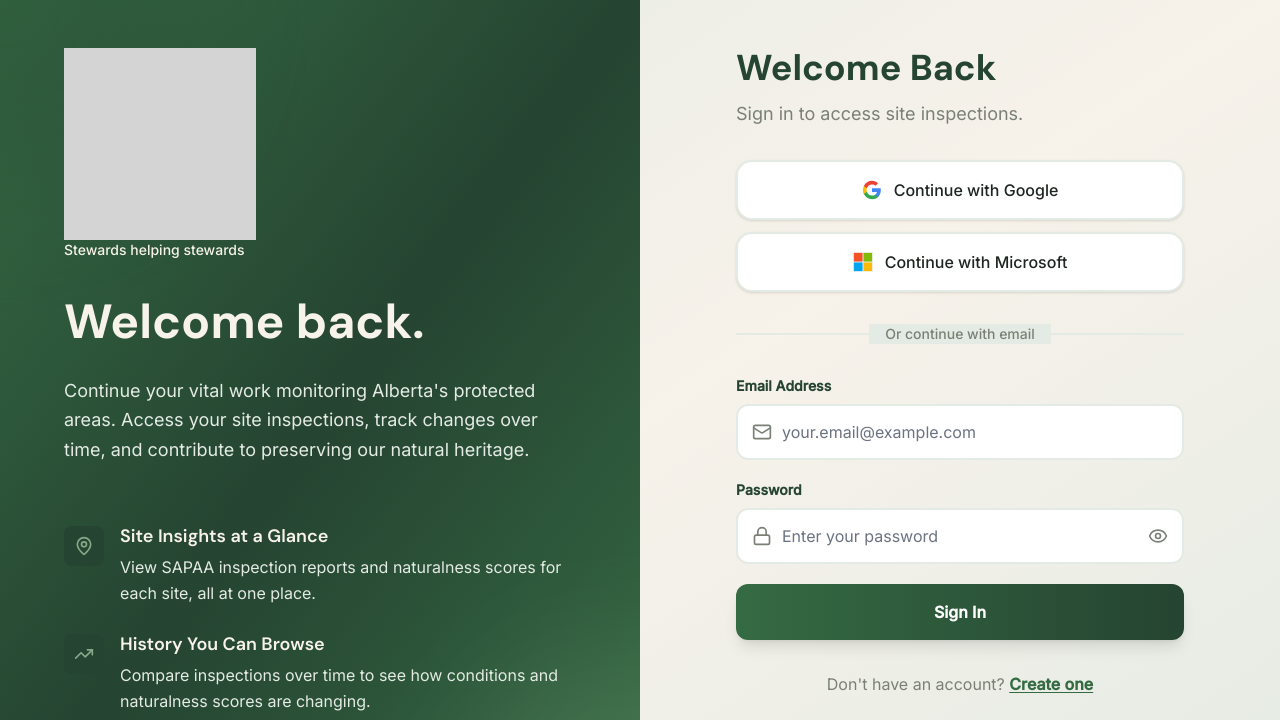
Scenario: LoginPage › shows error on failed login
Type "test@example.com" into the field labelled "Email Address" at [960, 432], box [736,404,1184,460]
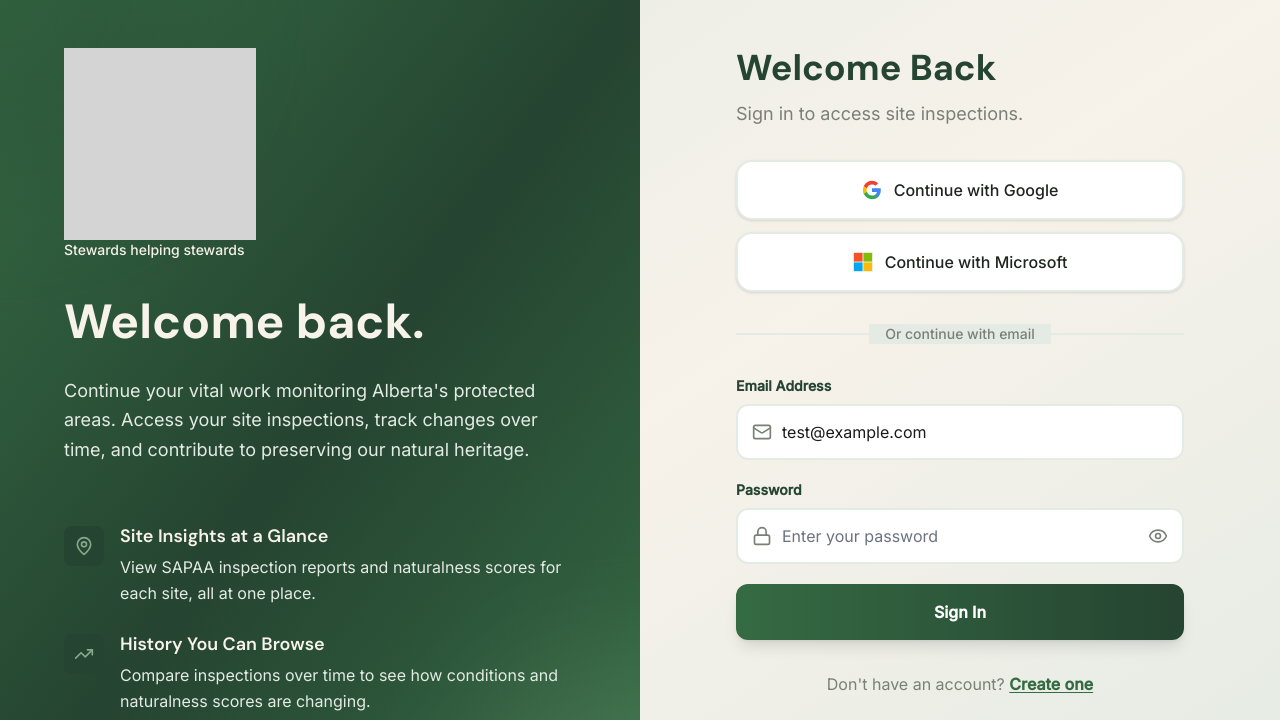
Type "wrongpass" into the password field labelled "Password" at [960, 536], box [736,508,1184,564]
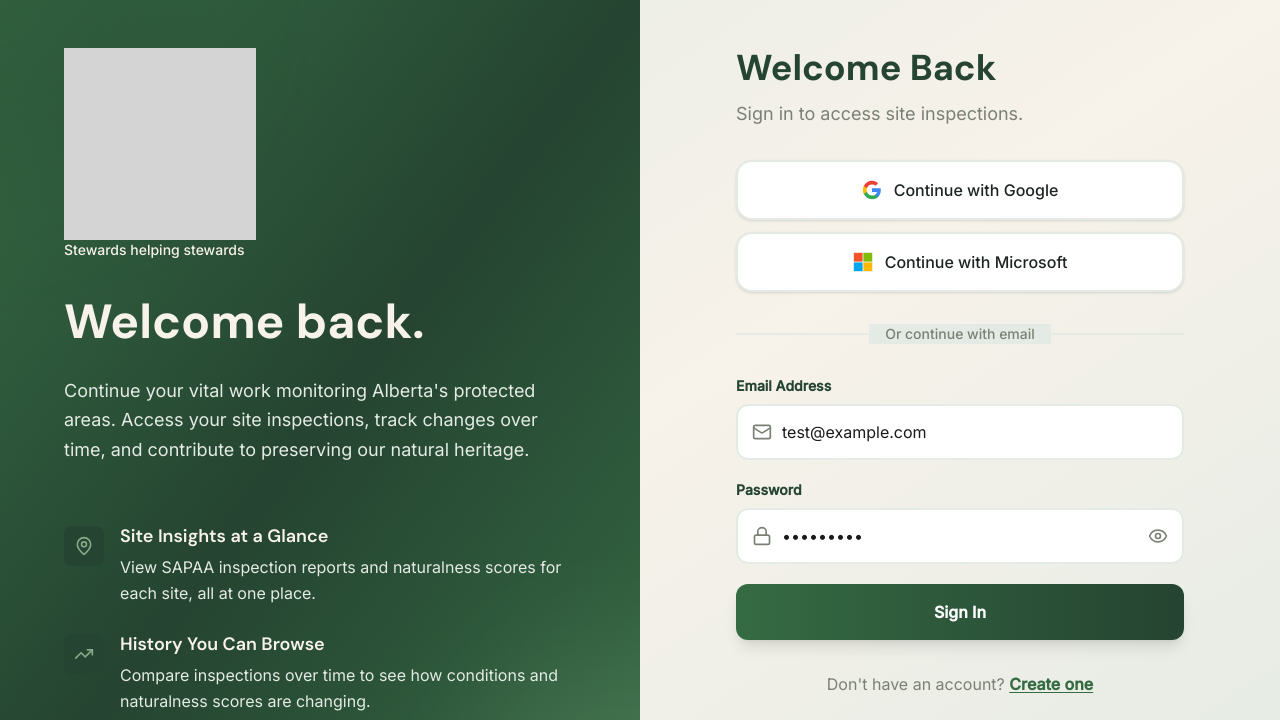
Click the button "Sign In" at [960, 612], box [736,584,1184,640]
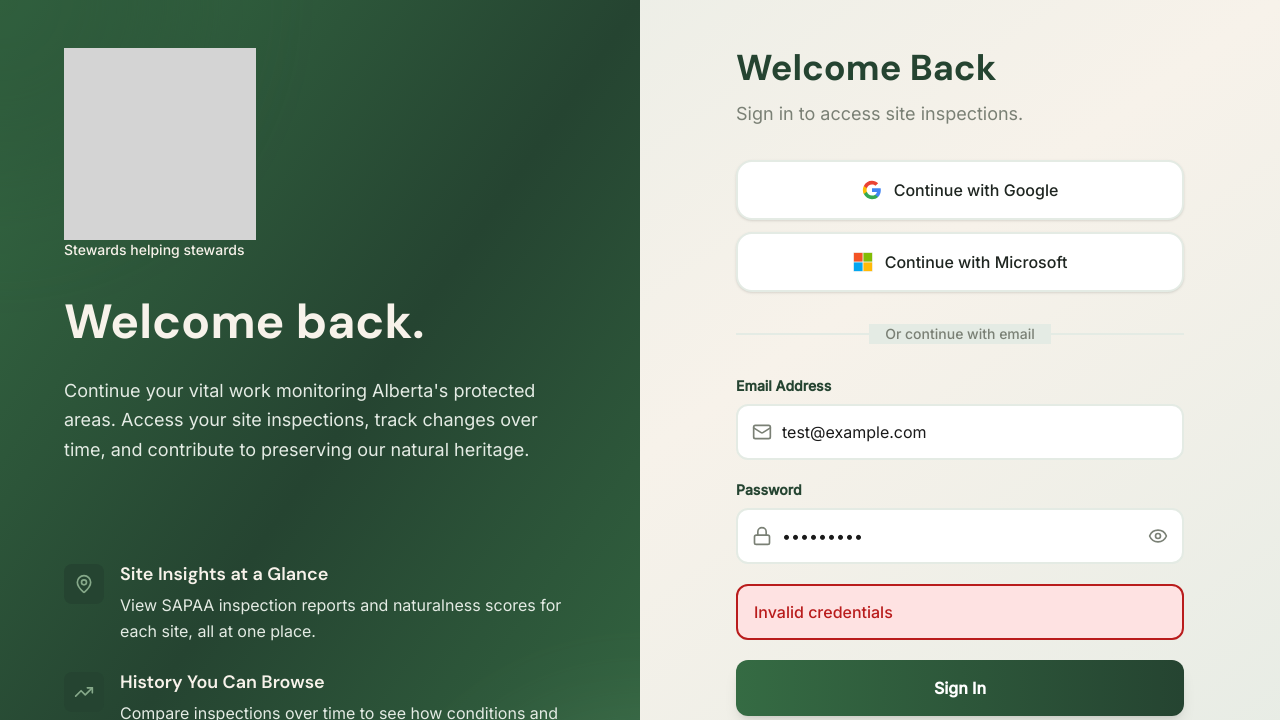
Expected: the text "Invalid credentials" is shown, [736,584,1184,640]
